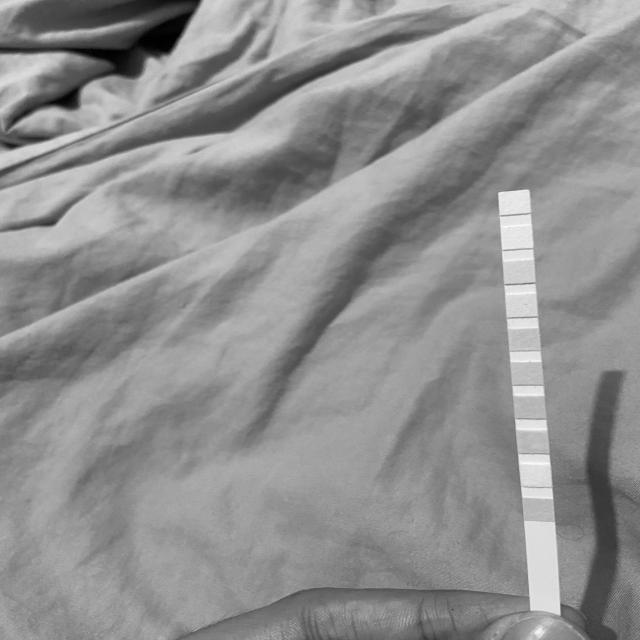Bilirubin: (522, 464, 552, 487)
Blood: (512, 363, 542, 384)
Glucose: (524, 499, 554, 520)
Ketone: (518, 430, 548, 452)
Leukocytes: (500, 192, 530, 215)
Nitrite: (502, 228, 532, 248)
Protein: (508, 295, 536, 316)
SpGravity: (516, 396, 544, 418)
Urobilinogen: (504, 262, 534, 282)
background: (0, 0, 640, 640)
pH: (511, 330, 539, 350)
strip: (497, 189, 560, 609)
